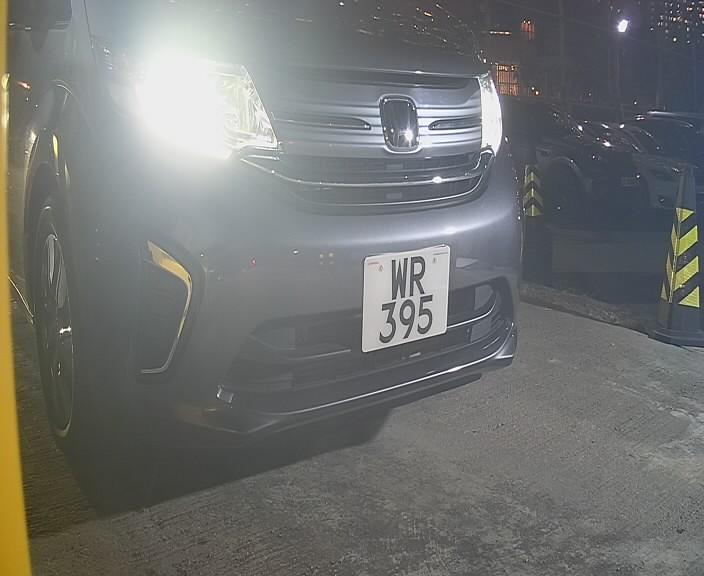License Plate: (353, 237, 463, 366)
